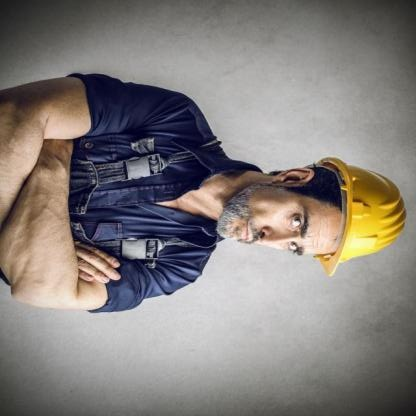yellow: (312, 152, 410, 280)
